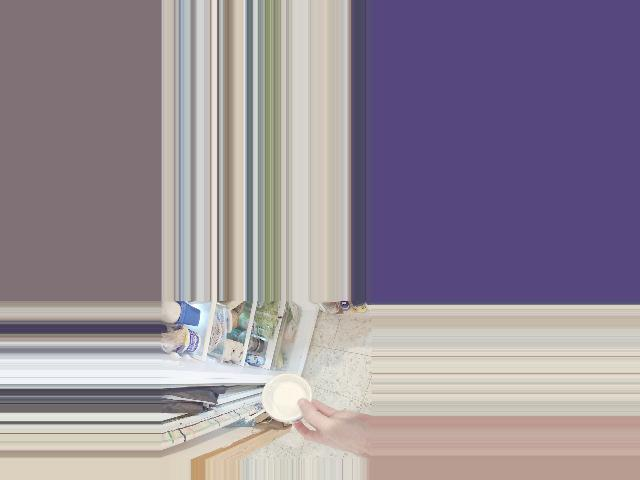cotage: (264, 377, 313, 426)
